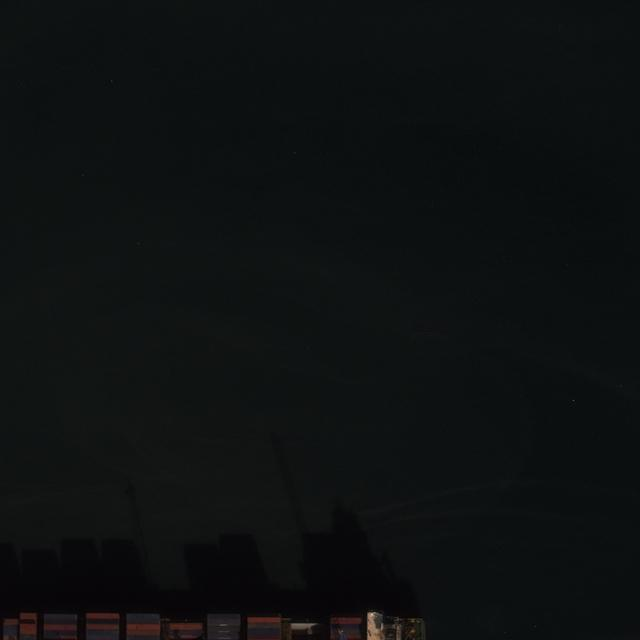Container Ship: (2, 610, 426, 638)
